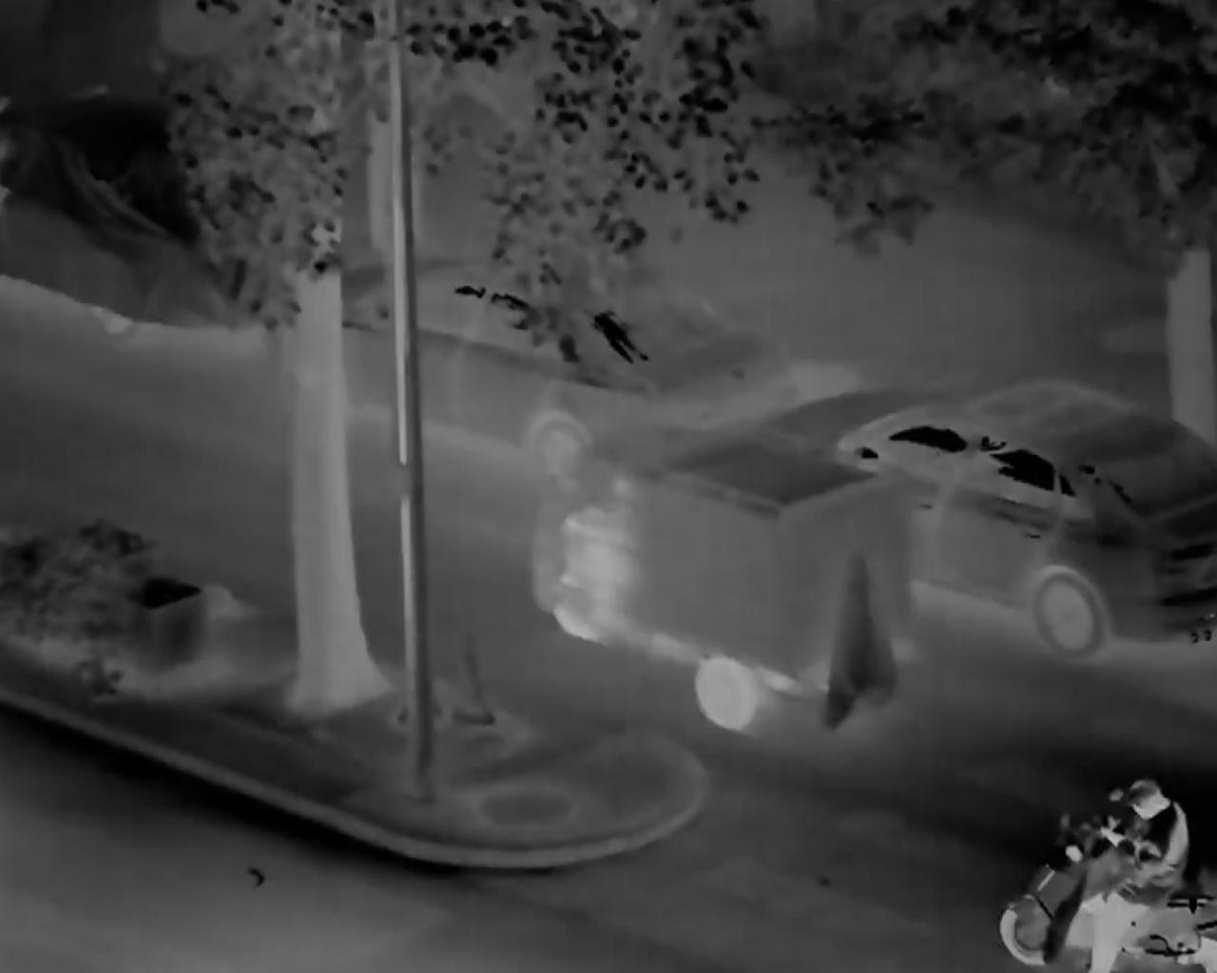person: (1078, 773, 1188, 961)
